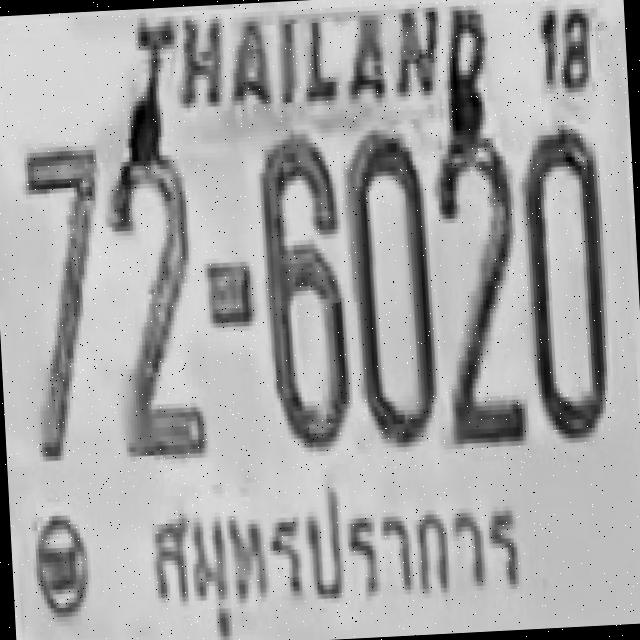0: (518, 121, 612, 442), (345, 130, 439, 447)
2: (108, 152, 205, 460), (430, 135, 524, 447), (104, 131, 200, 429), (434, 128, 524, 426)
6: (258, 132, 352, 454)
7: (20, 141, 112, 462)
SamutPrakan: (138, 472, 533, 626)
